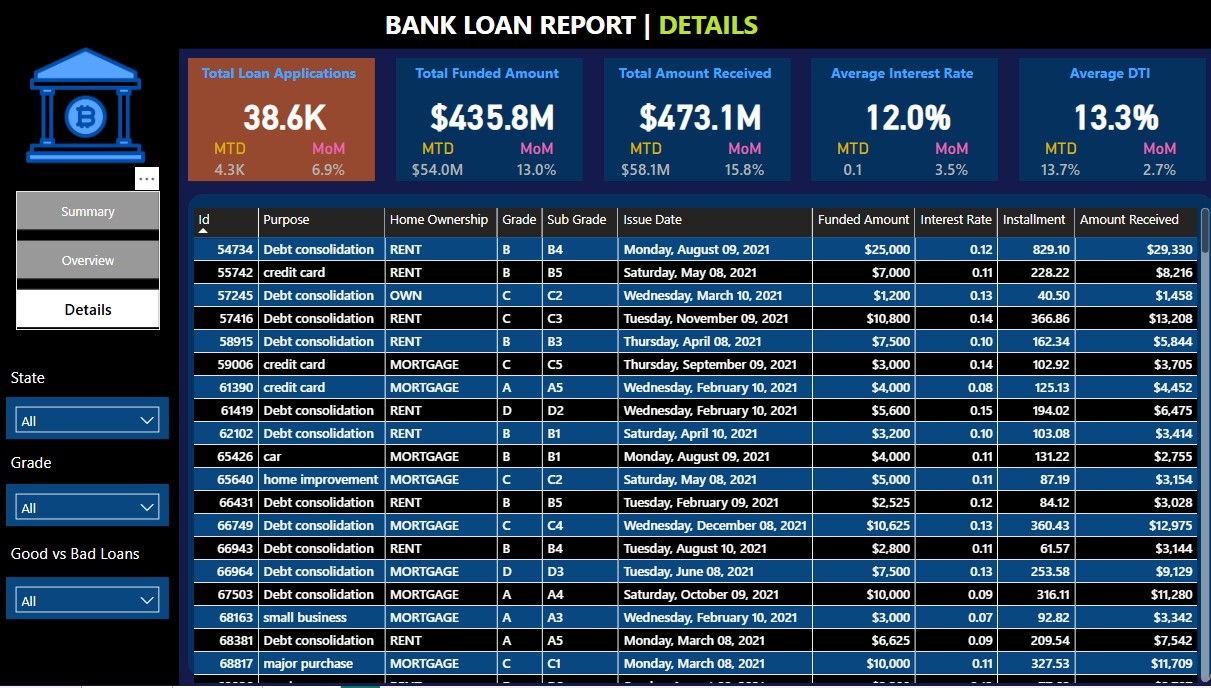

Layout of this report page (visuals, bound fields, positions):
{"tool":"powerbi","page":{"name":"Details","canvas":[1280,720],"ordinal":2},"visuals":[{"type":"shape","box":[0,0,1280,55],"z":0},{"type":"shape","box":[200.5,64.3,195.3,128.5],"z":0,"group":"g1"},{"type":"shape","box":[417.2,64.3,195.3,128.5],"z":0,"group":"g2"},{"type":"shape","box":[634,64.3,195.3,128.5],"z":0,"group":"g3"},{"type":"shape","box":[850.7,64.3,195.3,128.5],"z":0,"group":"g4"},{"type":"shape","box":[1067.5,64.7,195.3,128.5],"z":0,"group":"g5"},{"type":"shape","box":[0,45,191.5,674.7],"z":1000},{"type":"textbox","box":[401,5.1,458.8,50.1],"z":2000},{"type":"group","id":"g1","title":"Group 1","box":[200.5,64.3,195.3,128.5],"z":3000},{"type":"group","id":"g2","title":"Group 1","box":[417.2,64.3,195.3,128.5],"z":4000},{"type":"card","fields":{"Values":["Bank_loan.Total Loan Applications"]},"box":[209.5,96.4,182.5,52.7],"z":4000,"group":"g1"},{"type":"card","fields":{"Values":["Bank_loan.Total Funded Amount"]},"box":[426.2,96.4,182.5,52.7],"z":4000,"group":"g2"},{"type":"card","fields":{"Values":["Bank_loan.Total Amount Received"]},"box":[643,96.4,182.5,52.7],"z":4000,"group":"g3"},{"type":"card","fields":{"Values":["Bank_loan.Average Interest Rate"]},"box":[859.7,96.4,182.5,52.7],"z":4000,"group":"g4"},{"type":"card","fields":{"Values":["Bank_loan.Average DTI"]},"box":[1076.5,96.8,182.5,52.7],"z":4000,"group":"g5"},{"type":"textbox","box":[200.5,64.3,190.2,32.1],"z":5000,"group":"g1"},{"type":"textbox","box":[417.2,64.3,190.2,32.1],"z":5000,"group":"g2"},{"type":"textbox","box":[634,64.3,190.2,32.1],"z":5000,"group":"g3"},{"type":"textbox","box":[850.7,64.3,190.2,32.1],"z":5000,"group":"g4"},{"type":"textbox","box":[1067.5,64.7,190.2,32.1],"z":5000,"group":"g5"},{"type":"shape","box":[200.1,206.7,1071.1,504.7],"z":5000},{"type":"group","id":"g3","title":"Group 1","box":[634,64.3,195.3,128.5],"z":6000},{"type":"card","title":"MTD","fields":{"Values":["Bank_loan.MTD Loan Applications"]},"box":[209.5,149.1,68.1,43.7],"z":6000,"group":"g1"},{"type":"card","title":"MTD","fields":{"Values":["Bank_loan.MTD Funded Amount"]},"box":[426.2,149.1,68.1,43.7],"z":6000,"group":"g2"},{"type":"card","title":"MTD","fields":{"Values":["Bank_loan.MTD Amount Received"]},"box":[643,149.1,68.1,43.7],"z":6000,"group":"g3"},{"type":"card","title":"MTD","fields":{"Values":["Bank_loan.MTD Avg Int Rate"]},"box":[859.7,149.1,68.1,43.7],"z":6000,"group":"g4"},{"type":"card","title":"MTD","fields":{"Values":["Bank_loan.MTD Avg DTI"]},"box":[1076.5,149.5,68.1,43.7],"z":6000,"group":"g5"},{"type":"group","id":"g4","title":"Group 1","box":[850.7,64.3,195.3,128.5],"z":7000},{"type":"card","title":"MoM","fields":{"Values":["Bank_loan.MoM Loan Application"]},"box":[313.6,149.1,68.1,43.7],"z":7000,"group":"g1"},{"type":"card","title":"MoM","fields":{"Values":["Bank_loan.MoM Funded Amount"]},"box":[530.3,149.1,68.1,43.7],"z":7000,"group":"g2"},{"type":"card","title":"MoM","fields":{"Values":["Bank_loan.MoM Amount Received"]},"box":[747.1,149.1,68.1,43.7],"z":7000,"group":"g3"},{"type":"card","title":"MoM","fields":{"Values":["Bank_loan.MoM Avg Int Rate"]},"box":[963.8,149.1,68.1,43.7],"z":7000,"group":"g4"},{"type":"card","title":"MoM","fields":{"Values":["Bank_loan.MoM Avg DTI"]},"box":[1180.6,149.5,68.1,43.7],"z":7000,"group":"g5"},{"type":"group","id":"g5","title":"Group 1","box":[1067.5,64.7,195.1,128.3],"z":8000},{"type":"slicer","fields":{"Values":["Bank_loan.address_state"]},"box":[10.3,419,169.6,43.7],"z":9000},{"type":"slicer","fields":{"Values":["Bank_loan.grade"]},"box":[10.3,508.9,169.6,43.7],"z":10000},{"type":"slicer","fields":{"Values":["Bank_loan.Good vs Bad Loans"]},"box":[10.3,606.6,169.6,43.7],"z":11000},{"type":"textbox","box":[10.3,470.4,152.9,38.6],"z":12000},{"type":"textbox","box":[10.3,381.7,84.8,37.3],"z":13000},{"type":"textbox","box":[10.3,565.5,152.9,41.1],"z":14000},{"type":"tableEx","fields":{"Values":["Bank_loan.id","Bank_loan.purpose","Bank_loan.home_ownership","Bank_loan.grade","Bank_loan.sub_grade","Bank_loan.issue_date","Bank_loan.Total Funded Amount","Sum(Bank_loan.int_rate)","Sum(Bank_loan.installment)","Bank_loan.Total Amount Received"]},"box":[200.1,215.5,1071.1,504.7],"z":16001},{"type":"image","box":[11.6,45,164.5,137.5],"z":16002},{"type":"pageNavigator","box":[20.6,203.1,150.4,145.2],"z":16003}]}

Visuals, with their boxes in screenshot pixels (x1, y1, x2, y2), scaled from the page's 1280x720 canvas onto the 1211x688 screenshot:
shape: left=0, top=0, right=1210, bottom=53
shape: left=190, top=61, right=374, bottom=184
shape: left=395, top=61, right=579, bottom=184
shape: left=600, top=61, right=785, bottom=184
shape: left=805, top=61, right=990, bottom=184
shape: left=1010, top=62, right=1195, bottom=185
shape: left=0, top=43, right=181, bottom=687
textbox: left=379, top=5, right=813, bottom=53
"Group 1" group: left=190, top=61, right=374, bottom=184
"Group 1" group: left=395, top=61, right=579, bottom=184
card - Bank_loan.Total Loan Applications: left=198, top=92, right=371, bottom=142
card - Bank_loan.Total Funded Amount: left=403, top=92, right=576, bottom=142
card - Bank_loan.Total Amount Received: left=608, top=92, right=781, bottom=142
card - Bank_loan.Average Interest Rate: left=813, top=92, right=986, bottom=142
card - Bank_loan.Average DTI: left=1018, top=92, right=1191, bottom=143
textbox: left=190, top=61, right=370, bottom=92
textbox: left=395, top=61, right=575, bottom=92
textbox: left=600, top=61, right=780, bottom=92
textbox: left=805, top=61, right=985, bottom=92
textbox: left=1010, top=62, right=1190, bottom=92
shape: left=189, top=198, right=1203, bottom=680
"Group 1" group: left=600, top=61, right=785, bottom=184
"MTD" card: left=198, top=142, right=263, bottom=184
"MTD" card: left=403, top=142, right=468, bottom=184
"MTD" card: left=608, top=142, right=673, bottom=184
"MTD" card: left=813, top=142, right=878, bottom=184
"MTD" card: left=1018, top=143, right=1083, bottom=185
"Group 1" group: left=805, top=61, right=990, bottom=184
"MoM" card: left=297, top=142, right=361, bottom=184
"MoM" card: left=502, top=142, right=566, bottom=184
"MoM" card: left=707, top=142, right=771, bottom=184
"MoM" card: left=912, top=142, right=976, bottom=184
"MoM" card: left=1117, top=143, right=1181, bottom=185
"Group 1" group: left=1010, top=62, right=1195, bottom=184
slicer - Bank_loan.address_state: left=10, top=400, right=170, bottom=442
slicer - Bank_loan.grade: left=10, top=486, right=170, bottom=528
slicer - Bank_loan.Good vs Bad Loans: left=10, top=580, right=170, bottom=621
textbox: left=10, top=449, right=154, bottom=486
textbox: left=10, top=365, right=90, bottom=400
textbox: left=10, top=540, right=154, bottom=580
tableEx - Bank_loan.id x Bank_loan.purpose: left=189, top=206, right=1203, bottom=687
image: left=11, top=43, right=167, bottom=174
pageNavigator: left=19, top=194, right=162, bottom=333
